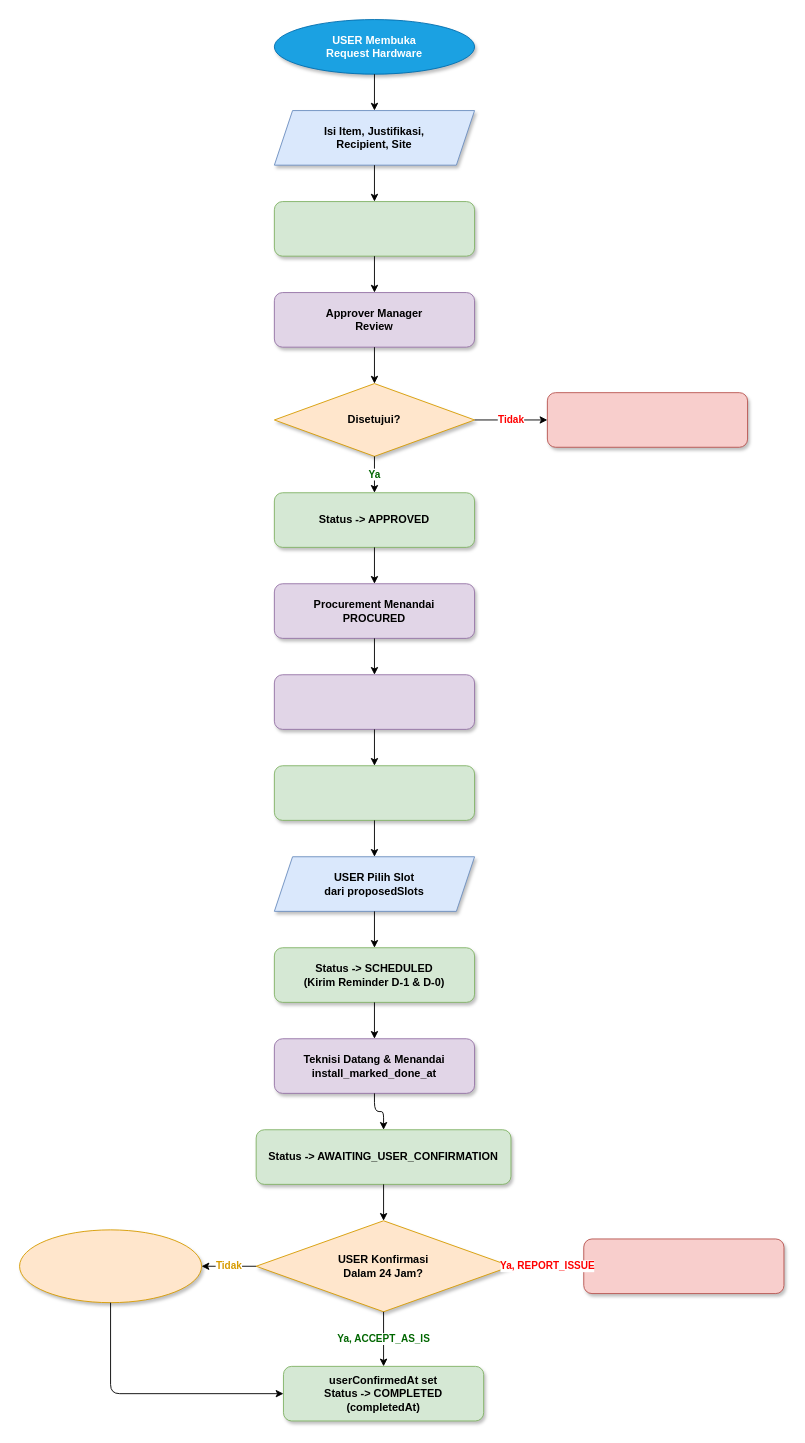
This 805x1443 diagram has some shape labels left out. The centre of each missing label's shape, as x and y in pixels:
"Buat Tiket SERVICE Follow-up (+ Status Hold)" belongs at point (684, 1267).
"Cron install-auto-confirm (Tiap 5 menit menutup otomatis)" belongs at point (111, 1267).
"InstallationSchedule Status -> PROPOSED" belongs at point (375, 794).
"Status -> REJECTED (+ rejectReason & Notifikasi)" belongs at point (648, 421).
"Submit (Status: DRAFT -> SUBMITTED)" belongs at point (375, 230).
"Technician Menjadwalkan Instalasi" belongs at point (375, 703).
